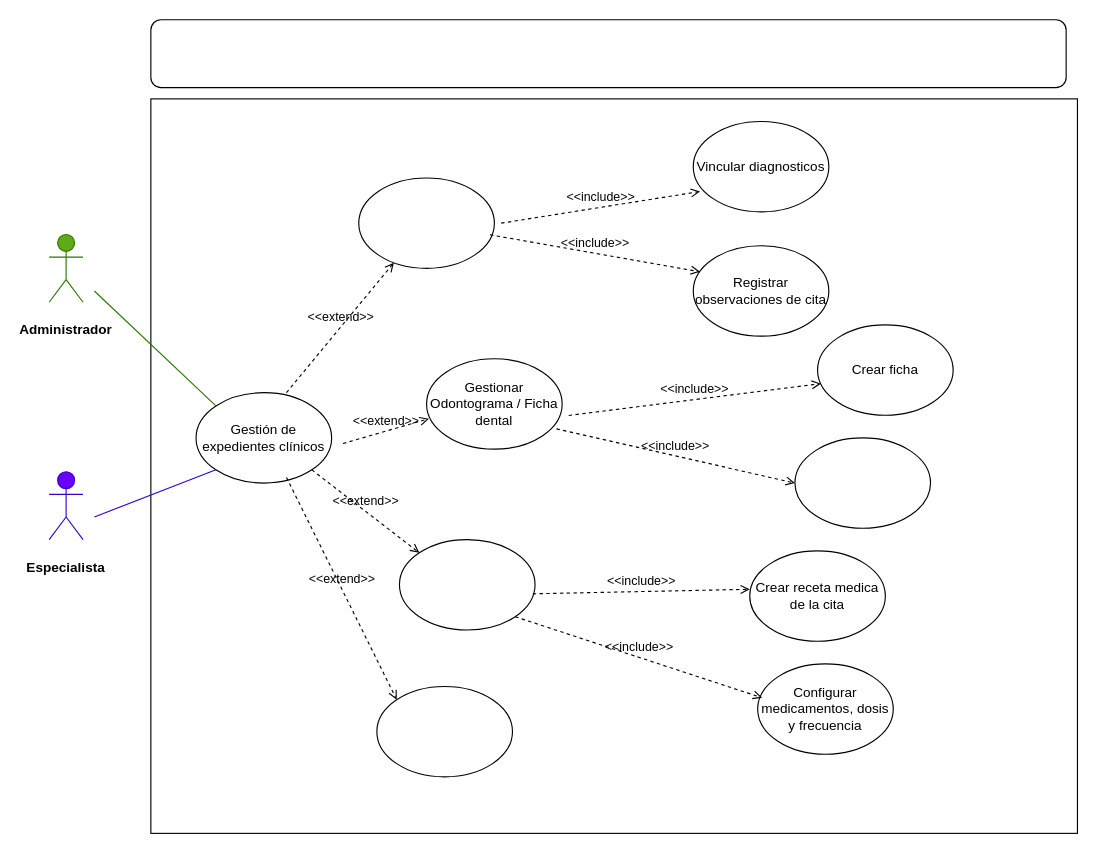
Image size: 1097x853. Some labels were removed from this diagram. Here are the shapes that lost their labels. From the top down, the centre of each, then its label:
At (608,53): "Diagrama de caso de uso del Módulo Gestión de Expedientes Clínicos".
At (426,222): "Registrar progreso clínico".
At (862,482): "Actualizar estado de piezas, caras y notas".
At (466,584): "Emitir recetas medicas".
At (444,731): "Adjuntar archivos de imagenes clínicas".
